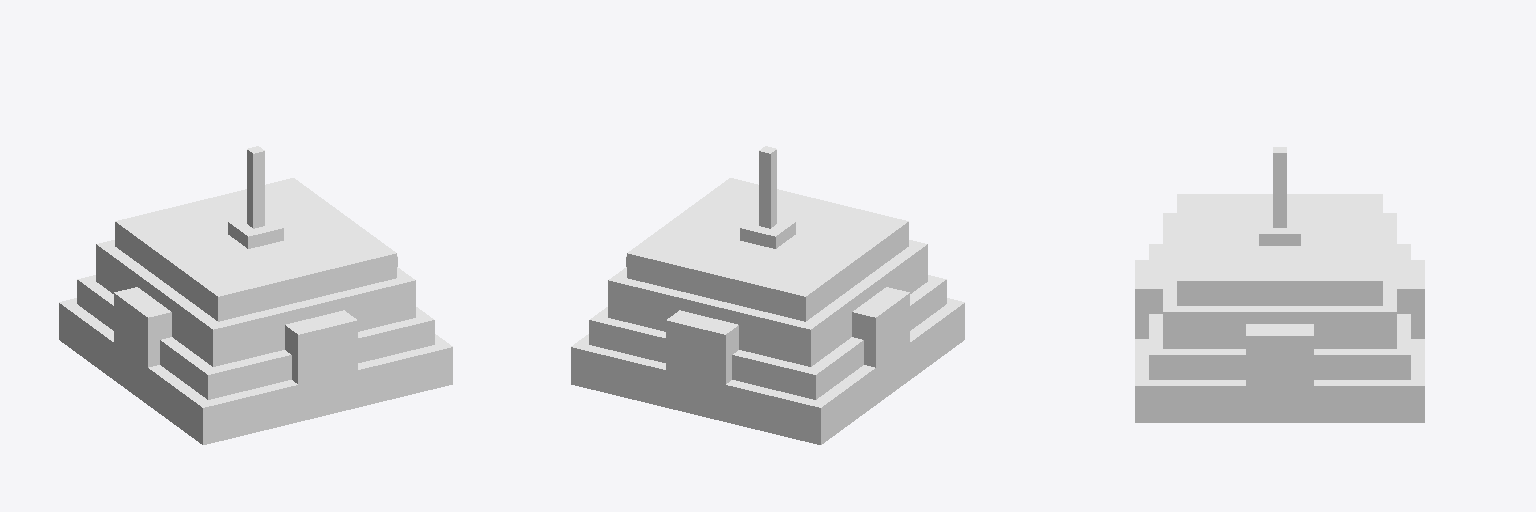
The model's file is spreaderBase.obj.
3 renders of one model, left to right at view 1: azimuth 30°, elevation 25°; view 2: azimuth 150°, elevation 25°; view 3: azimuth 270°, elevation 25°, orthographic.
Size of the model in its own units: 0.84 by 0.68 by 0.84.